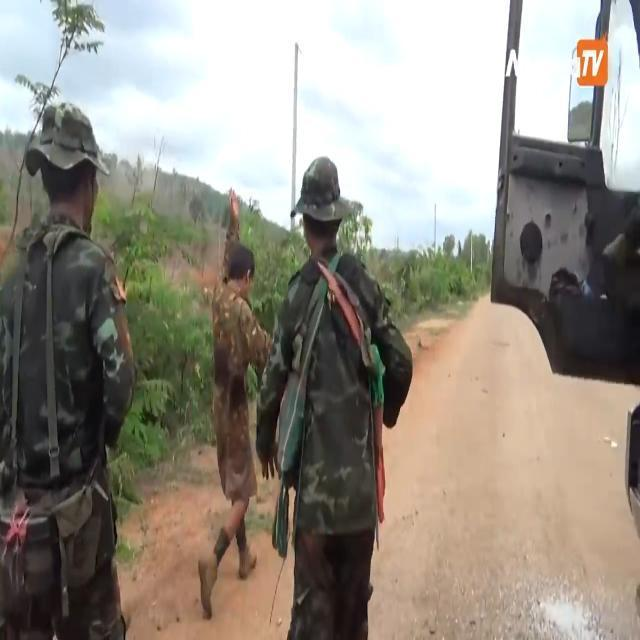MIL_Pax: (258, 158, 412, 640), (0, 102, 135, 638), (199, 191, 271, 619)
